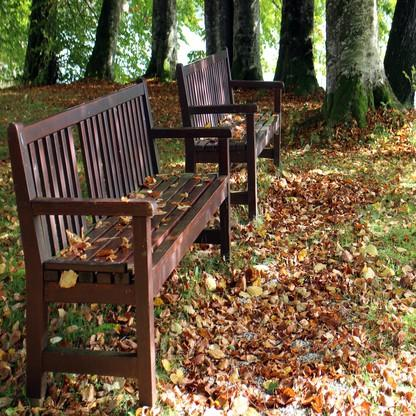obstacle: (6, 68, 242, 406)
